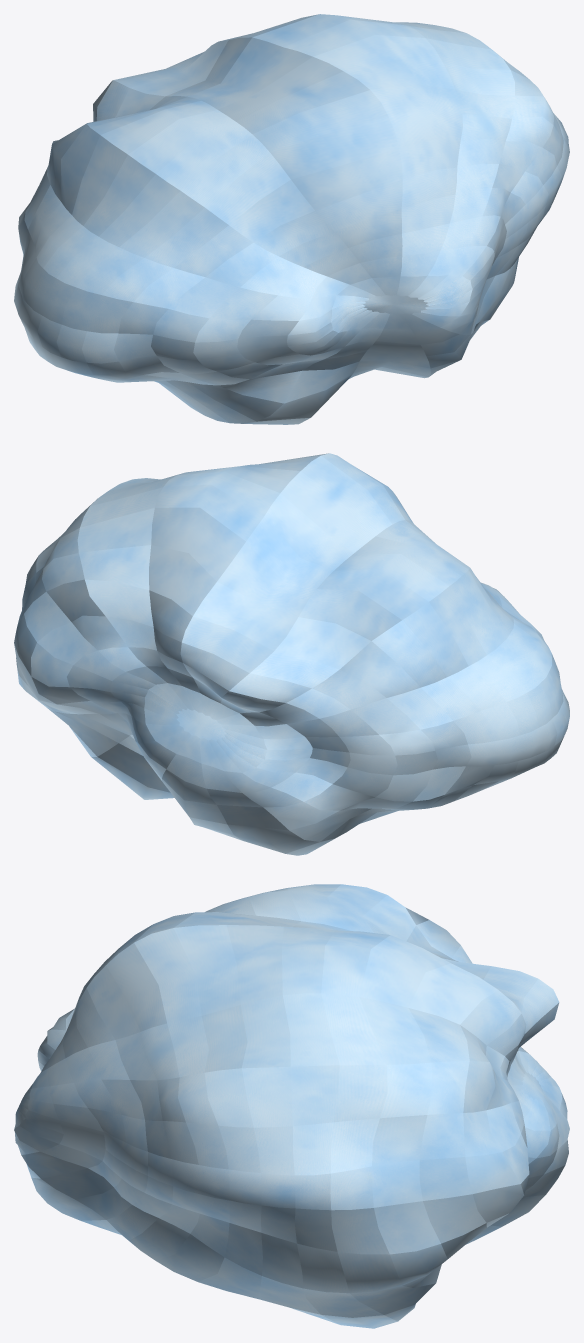
Rendered from cloud4.fbx.
3 renders of one model, top to bottom at view 1: azimuth 30°, elevation 25°; view 2: azimuth 150°, elevation 25°; view 3: azimuth 270°, elevation 25°, orthographic. The views are drawn at different scales.
Visible parts, largest first — view 1: pasted__pSphere2.001; view 2: pasted__pSphere2.001; view 3: pasted__pSphere2.001.
Part boxes in pixels (x1,y1,x2,y2): pasted__pSphere2.001: [14, 14, 569, 424]; pasted__pSphere2.001: [14, 453, 569, 855]; pasted__pSphere2.001: [14, 884, 569, 1328].
Bounding box in the file's own units: 5837 × 3426 × 4788.
1 material, 1 textured.
